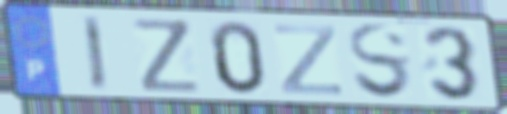0: (207, 18, 270, 98)
3: (419, 23, 484, 103)
I: (78, 13, 111, 94)
S: (345, 21, 416, 102)
Z: (129, 16, 205, 95), (272, 22, 345, 98)
